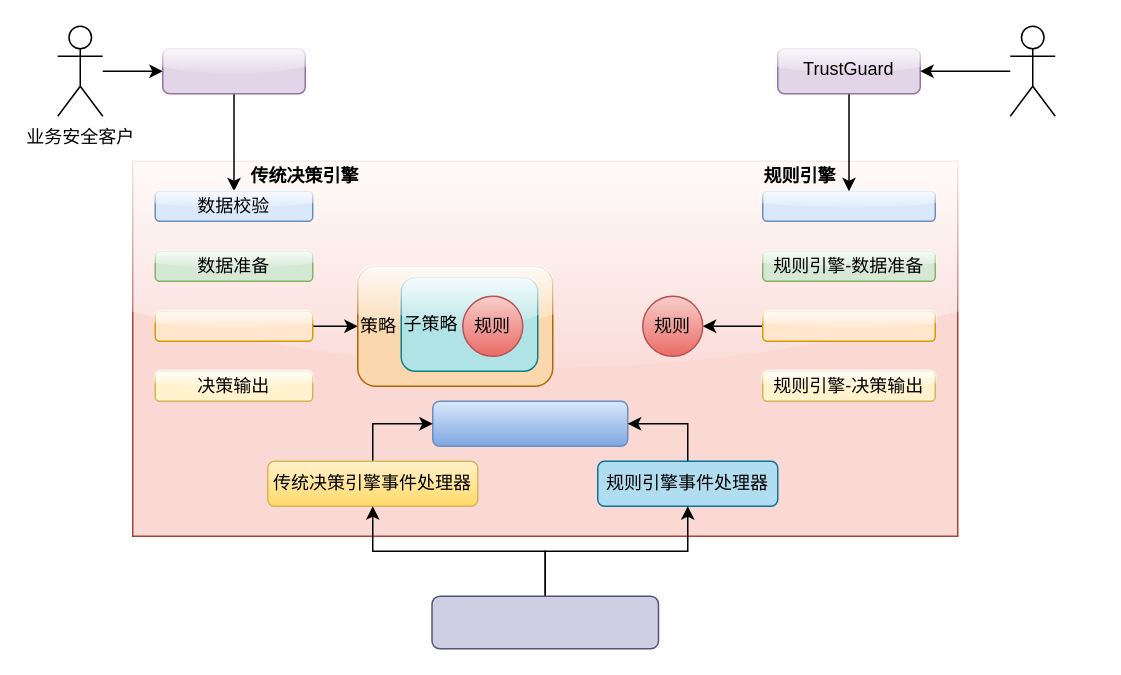
Image size: 1121x675. Some labels were removed from this diagram. Each missing label, with the centre of its shape:
TrustGuard客户: pixel 1032 70
业务安全: pixel 233 70
决策执行: pixel 233 325
本地缓存: pixel 529 423
管理域数据: pixel 544 622
规则引擎-决策执行: pixel 848 325
规则引擎-数据校验: pixel 848 205
